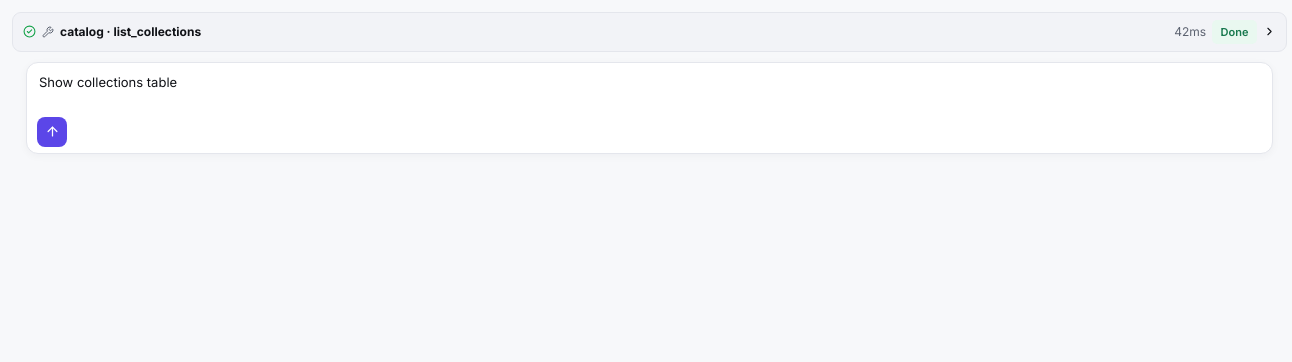
Test case: Phase 3 — shadcn/ui AI Elements (Streamdown GFM Tables, Tool Cards, PromptInput) › toggles collapsible Tool card and submits PromptInput on Enter
Later steps or results of the test are not shown.
Expected: the text "includeEmpty" is not shown
Click the text "catalog · list_collections" at (131, 32), box top-left (60, 23), bottom-right (201, 41)
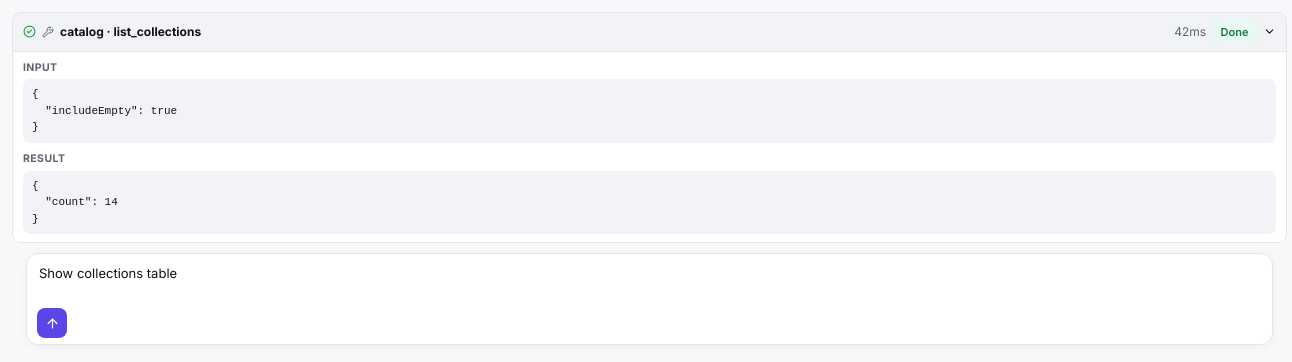
Now the text "{ \"includeEmpty\": true }" is shown, box top-left (23, 79), bottom-right (1276, 143)
